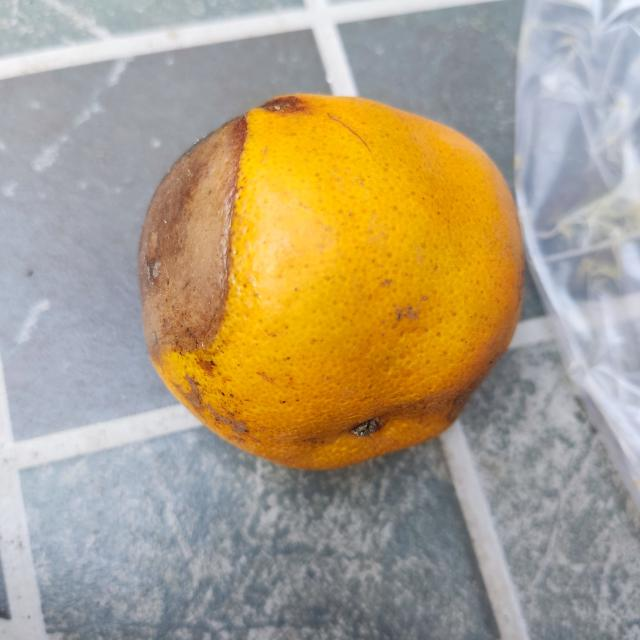orange: (134, 86, 527, 474)
